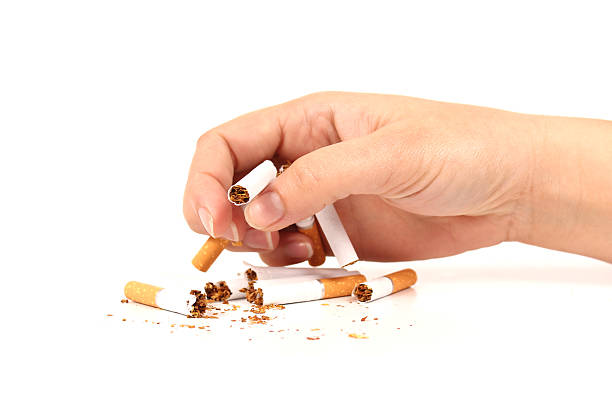cigarette: (245, 274, 368, 308), (121, 279, 209, 321), (314, 202, 360, 269), (225, 158, 278, 208), (352, 268, 418, 305), (244, 266, 349, 283), (295, 214, 327, 269), (190, 231, 230, 274), (203, 277, 248, 302)
